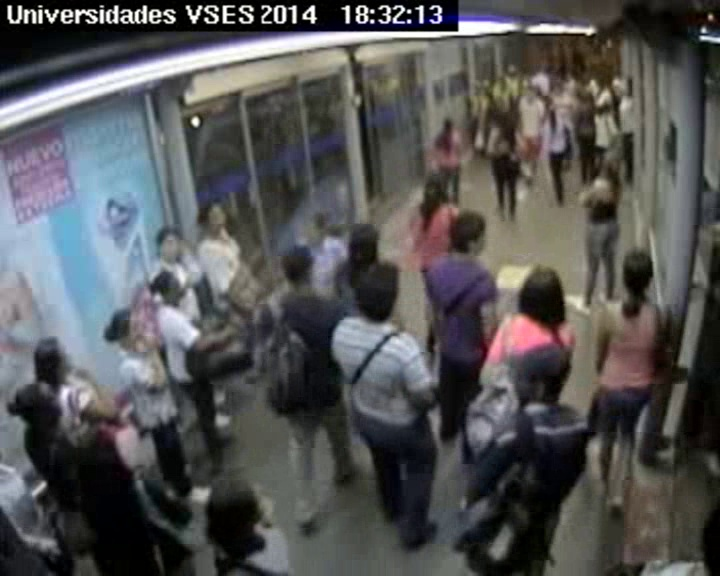person: (204, 477, 266, 542), (515, 340, 571, 400), (77, 440, 126, 496), (354, 264, 403, 318), (520, 264, 568, 319), (10, 382, 62, 432), (445, 205, 492, 257), (79, 399, 120, 443), (34, 336, 71, 374), (282, 246, 318, 283), (622, 253, 655, 293), (108, 311, 142, 347), (348, 224, 381, 261), (198, 201, 230, 236), (153, 272, 183, 308), (155, 227, 184, 263), (305, 213, 332, 242), (423, 173, 450, 201), (602, 157, 622, 179), (495, 110, 511, 127), (543, 98, 557, 113), (576, 89, 590, 104), (596, 70, 610, 83), (506, 64, 519, 76), (580, 71, 592, 84), (525, 88, 536, 102), (550, 83, 562, 95), (496, 80, 508, 92), (625, 81, 635, 95), (481, 87, 492, 98), (540, 64, 550, 75), (601, 101, 611, 112), (443, 121, 453, 131), (565, 71, 573, 80)
